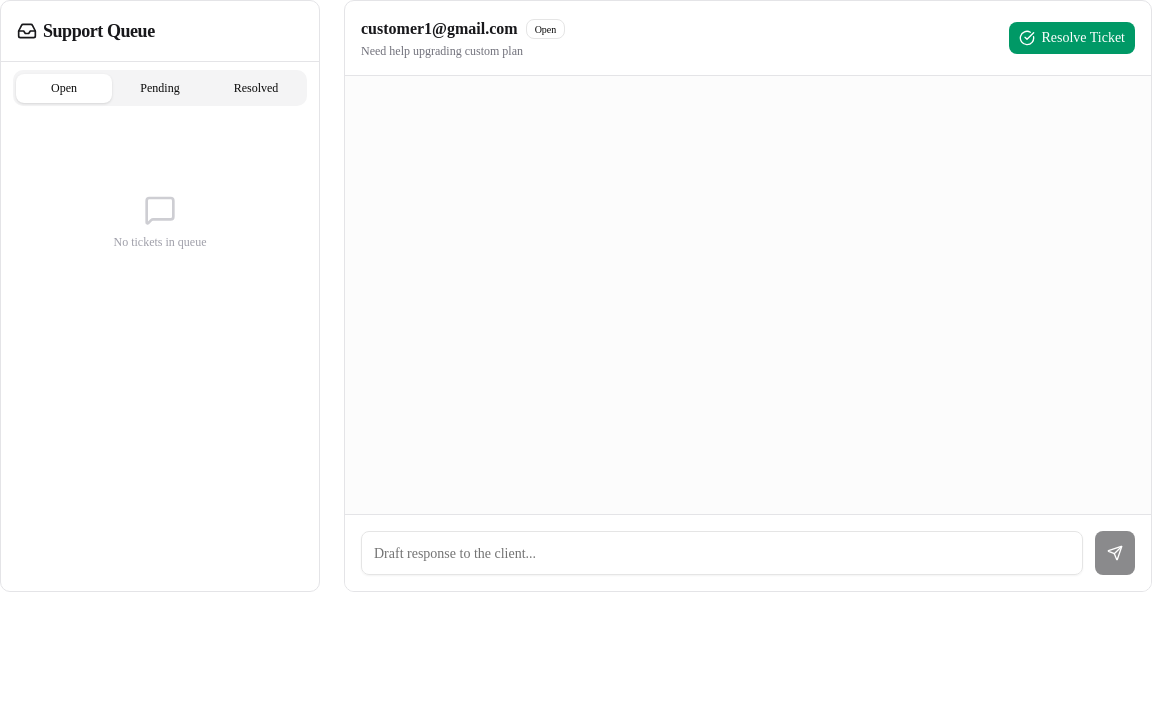
Scenario: TicketsPage Component › opens Harvester modal dialog when clicking Resolve Ticket and loads suggestions
// Click Resolve Ticket Button
Click the button "Resolve Ticket".
click(1072, 38)  # box top-left (1009, 22), bottom-right (1135, 54)
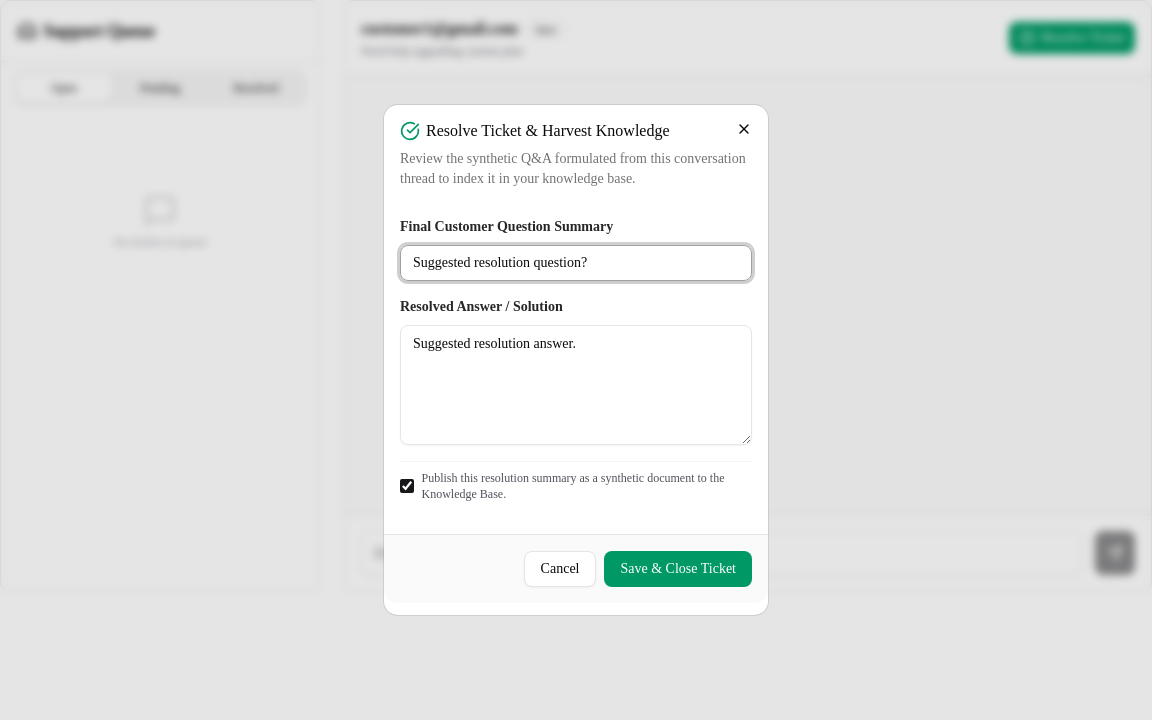
expect the text "Final Customer Question Summary" is shown: met, box top-left (400, 219), bottom-right (613, 234)
expect the text "Resolved Answer / Solution" is shown: met, box top-left (400, 299), bottom-right (563, 314)
expect the field labelled "Final Customer Question Summary" holds "Suggested resolution question?": met, box top-left (400, 245), bottom-right (752, 281)
